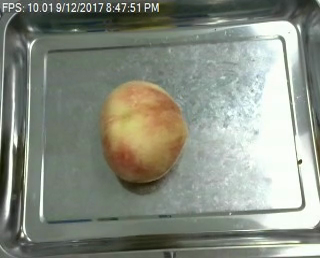Peach: (98, 78, 189, 185)
